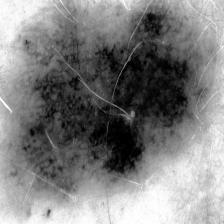Benign Marking or Mole: (7, 0, 208, 197)
